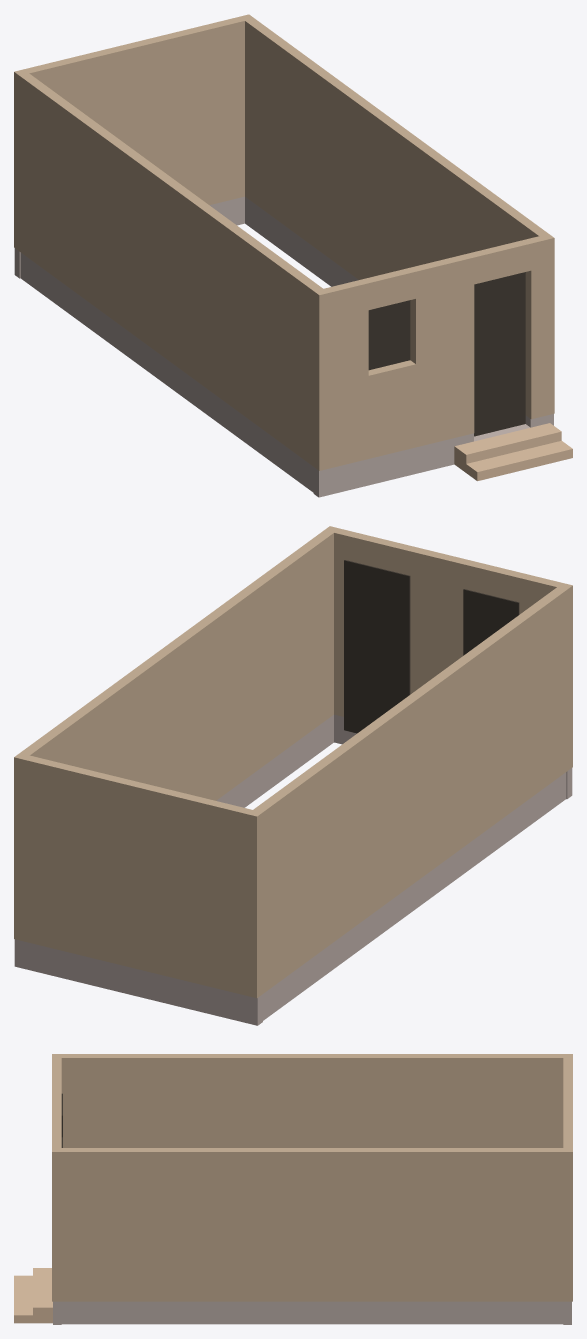
The model's file is SM_Floor_NarrowLiving_364_01.gltf.
The picture shows the model from 3 angles, top to bottom: view 1: azimuth 30°, elevation 25°; view 2: azimuth 150°, elevation 25°; view 3: azimuth 270°, elevation 25°; orthographic projection. The views are drawn at different scales.
Visible parts, largest first — view 1: SM_Floor_NarrowLiving_364_01; view 2: SM_Floor_NarrowLiving_364_01; view 3: SM_Floor_NarrowLiving_364_01.
Part boxes in pixels (x1,y1,x2,y2): SM_Floor_NarrowLiving_364_01: (14, 14, 572, 497); SM_Floor_NarrowLiving_364_01: (14, 526, 572, 1025); SM_Floor_NarrowLiving_364_01: (14, 1054, 572, 1324).
Size of the model in its own units: 3.64 by 3 by 8.79.
Materials: 1 (1 with a texture image).
